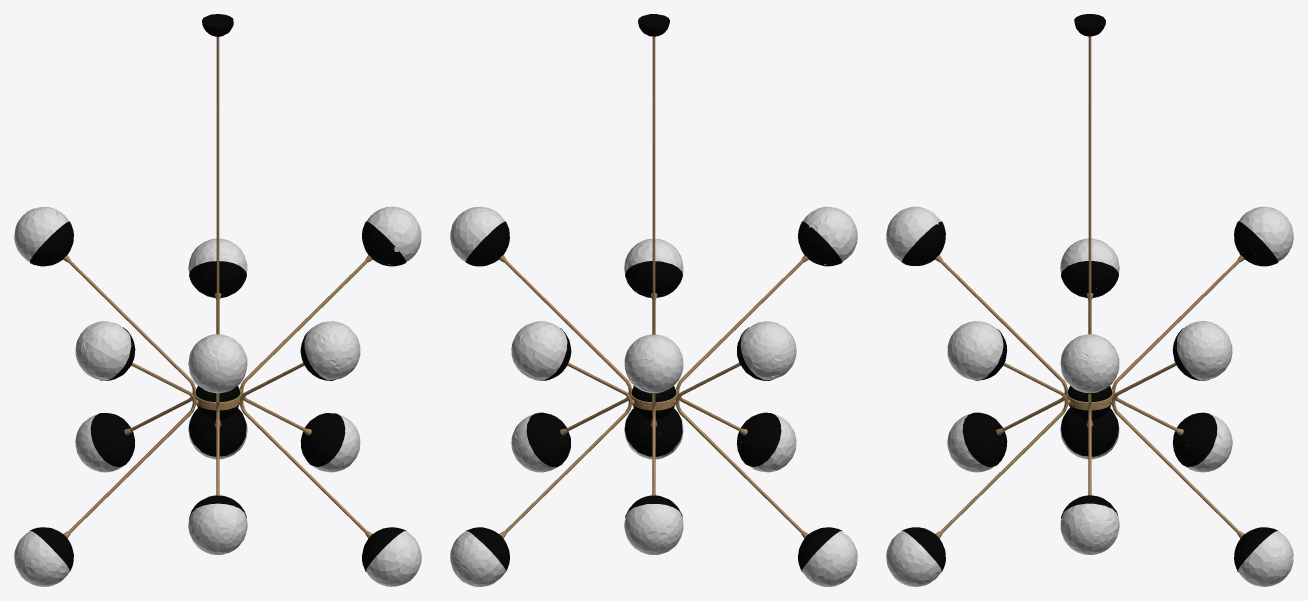
File: orb.glb
3 renders of one model, left to right at view 1: azimuth 30°, elevation 25°; view 2: azimuth 150°, elevation 25°; view 3: azimuth 270°, elevation 25°, orthographic.
Parts seen in each view (by area): view 1: glass, black, brass; view 2: glass, black, brass; view 3: glass, black, brass.
Part boxes in pixels (x1,y1,x2,y2): glass: (14,206,421,586); black: (30,14,406,572); brass: (63,37,372,538); glass: (450,206,857,586); black: (465,14,842,572); brass: (499,36,808,538); glass: (886,206,1293,586); black: (901,14,1278,572); brass: (935,36,1244,538).
Bounding box in the file's own units: 0.8586 × 1.07 × 0.7584.
